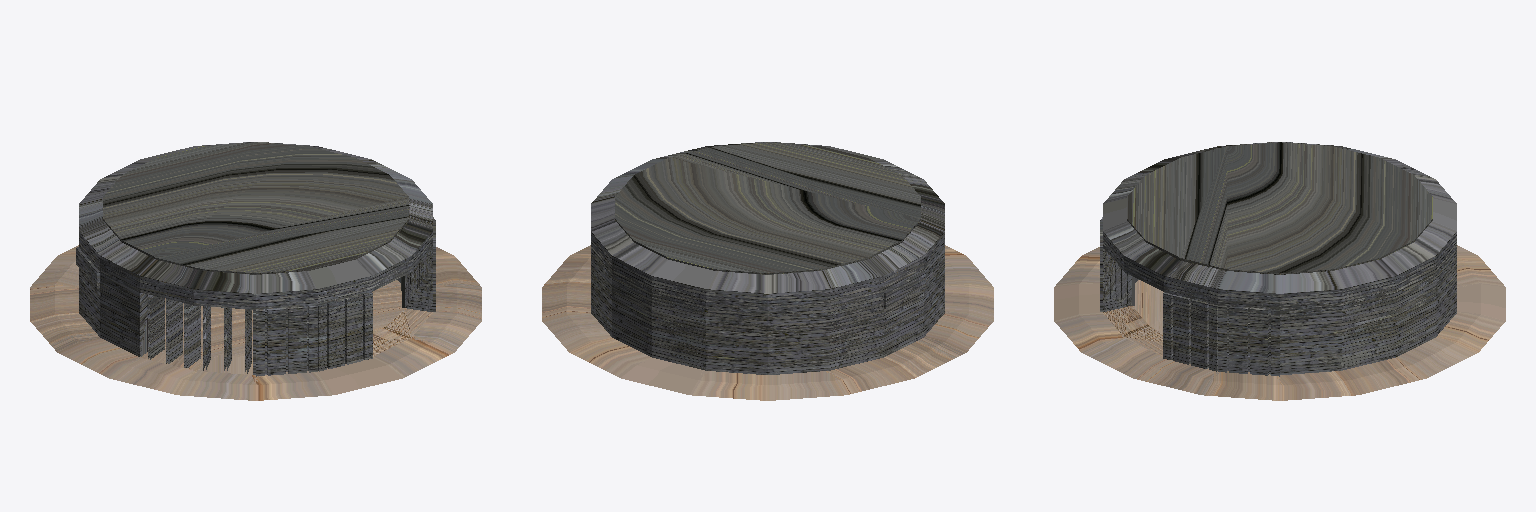
3 views of the same model, side by side, from view 1: azimuth 30°, elevation 25°; view 2: azimuth 150°, elevation 25°; view 3: azimuth 270°, elevation 25° (orthographic).
Parts seen in each view (by area): view 1: Edificio1, Techo, Suelo, Edificio; view 2: Edificio1, Techo, Suelo; view 3: Edificio1, Techo, Suelo.
Part boxes in pixels (left/top/right/bottom): Edificio1: left=76, top=142, right=435, bottom=376; Techo: left=103, top=142, right=408, bottom=274; Suelo: left=30, top=245, right=481, bottom=400; Edificio: left=148, top=239, right=434, bottom=357; Edificio1: left=591, top=142, right=944, bottom=374; Techo: left=615, top=142, right=920, bottom=274; Suelo: left=542, top=245, right=993, bottom=400; Edificio1: left=1100, top=142, right=1456, bottom=376; Techo: left=1127, top=142, right=1432, bottom=274; Suelo: left=1054, top=245, right=1505, bottom=400.
Size of the model in its own units: 25.48 by 5.9 by 25.09.
3 materials, 3 textured.